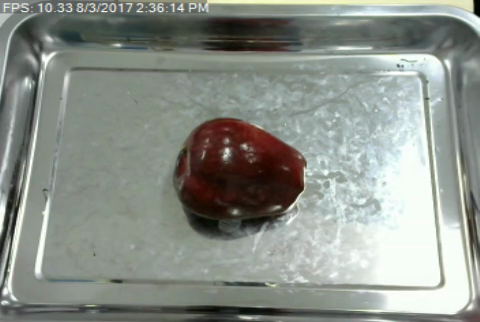Apple: (170, 115, 310, 223)
